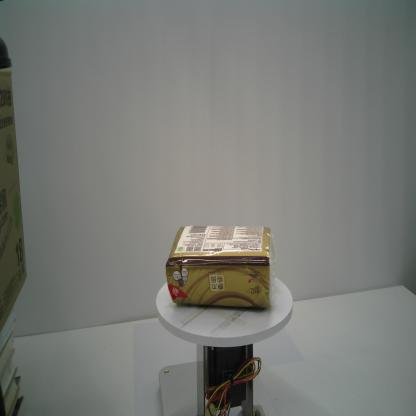Tissue: (166, 226, 275, 310)
